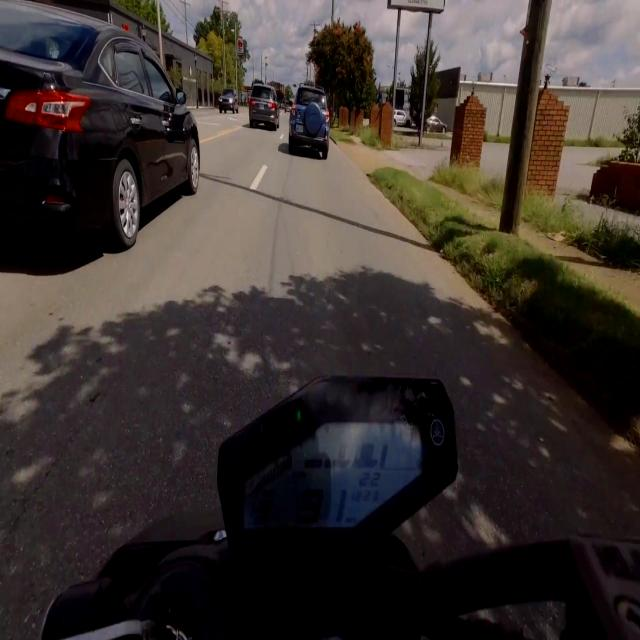car: (0, 0, 199, 248), (288, 85, 329, 159), (249, 83, 279, 129), (219, 89, 238, 113)
motorcycle: (42, 378, 639, 639)
